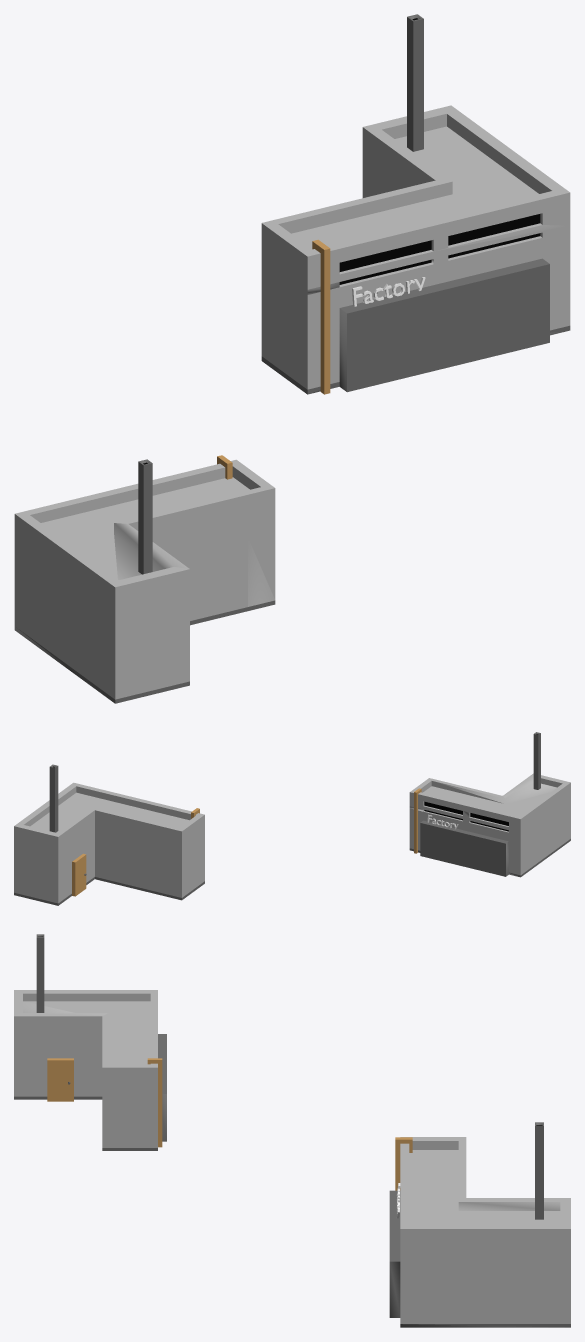
File: factory.glb
3 views of the same model, one above another, from view 1: azimuth 30°, elevation 25°; view 2: azimuth 150°, elevation 25°; view 3: azimuth 270°, elevation 25° (orthographic). The views are drawn at different scales.
Parts seen in each view (by area): view 1: Завод.001; view 2: Завод.001; view 3: Завод.001.
Boxes of the visible parts, <box> form: Завод.001: <box>14,14,570,703</box>; Завод.001: <box>14,732,570,905</box>; Завод.001: <box>14,934,570,1327</box>.
Bounding box in the file's own units: 35.6 × 12.03 × 33.08.
